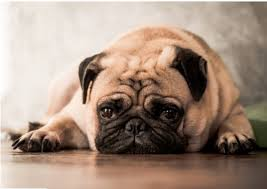dog: (68, 45, 209, 149)
